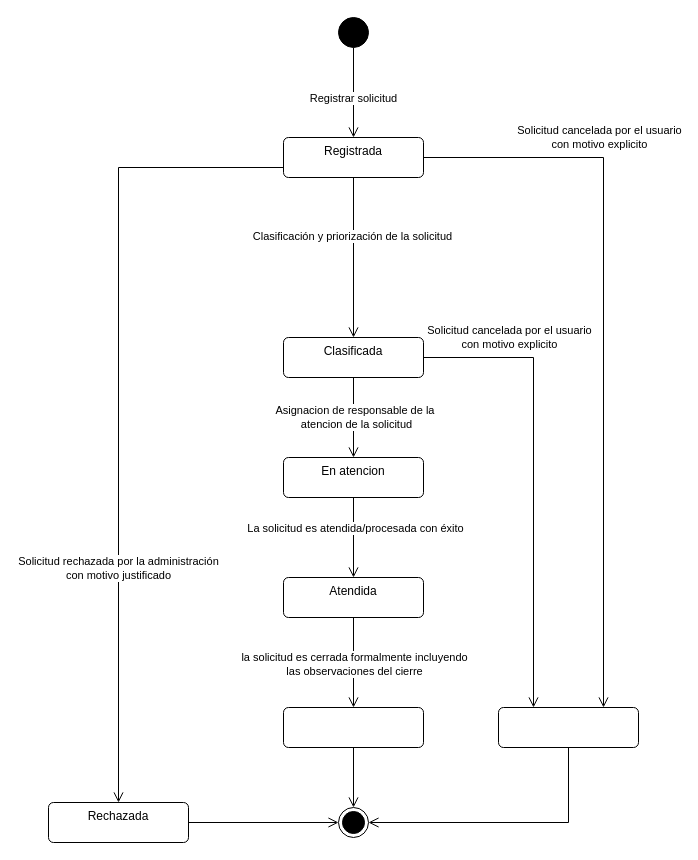
Some shapes in this 698 by 860 pixel diagram are drawn without their labels. Each missing label, with the centre of its shape:
"Cancelada" belongs at (x=568, y=727).
"Cerrada" belongs at (x=353, y=727).
